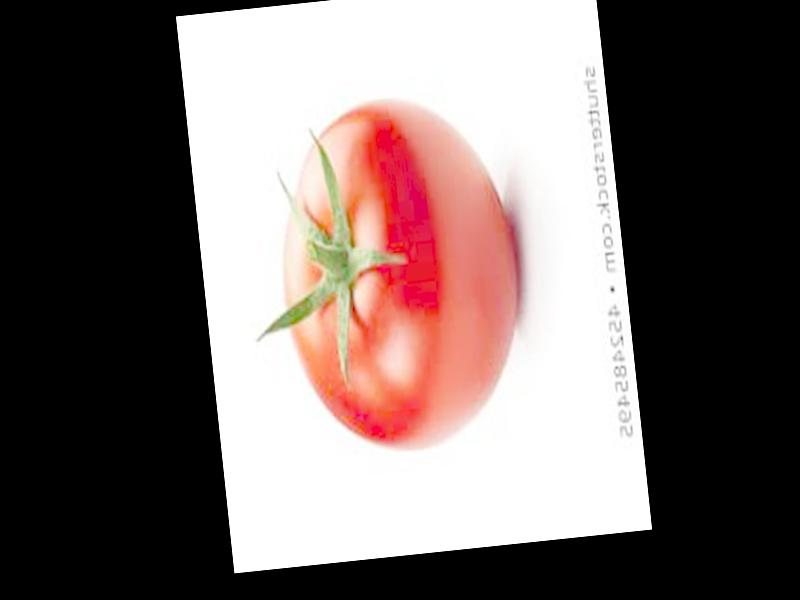Tomato: (266, 92, 535, 457)
